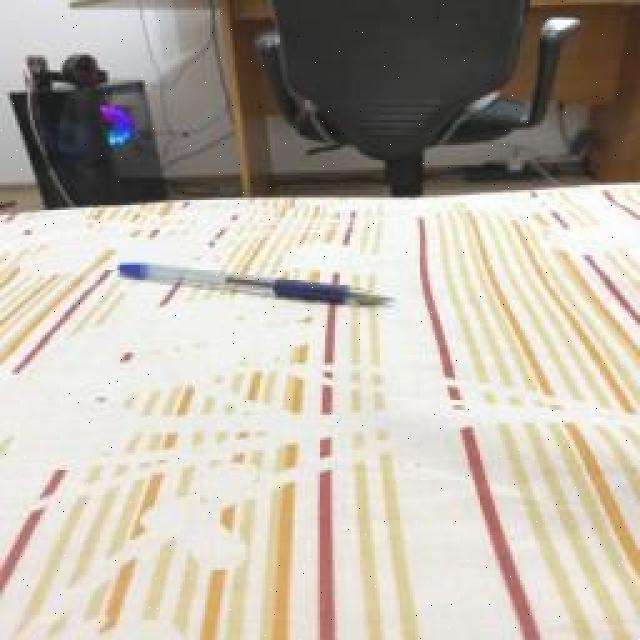pen: (115, 262, 395, 308)
